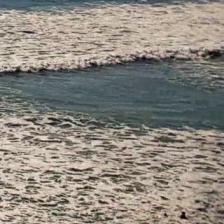surfer: (134, 0, 141, 2)
